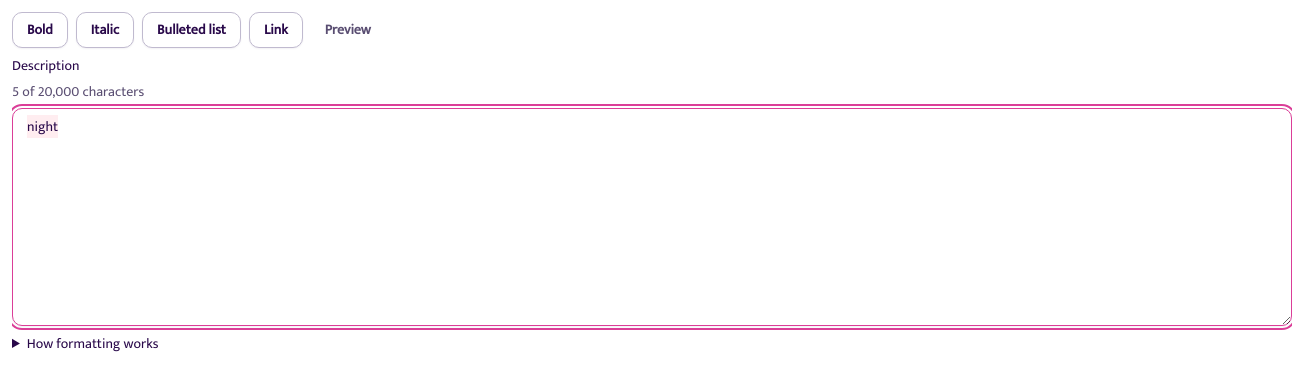
Test: the field › has a toolbar of real buttons that keep focus in the box
Click the button "Bold".
click(40, 30)  # box top-left (12, 12), bottom-right (68, 48)
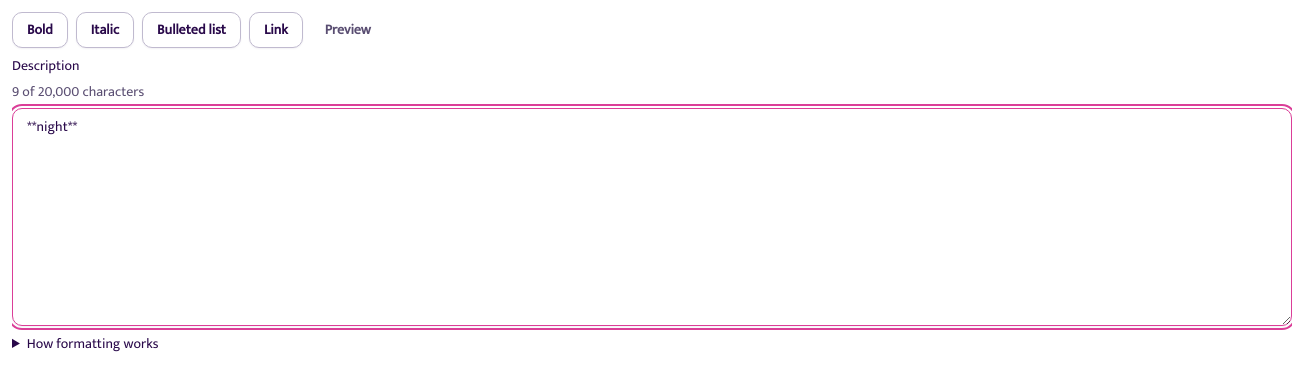
Check: the element named "Formatting for description" is shown, box top-left (12, 12), bottom-right (385, 48)
Check: the text box labelled "Description" holds "**night**", box top-left (12, 108), bottom-right (1292, 326)
